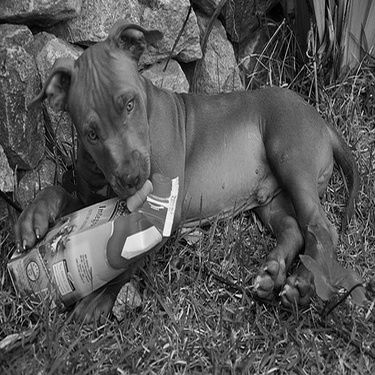dog: (25, 23, 361, 330)
